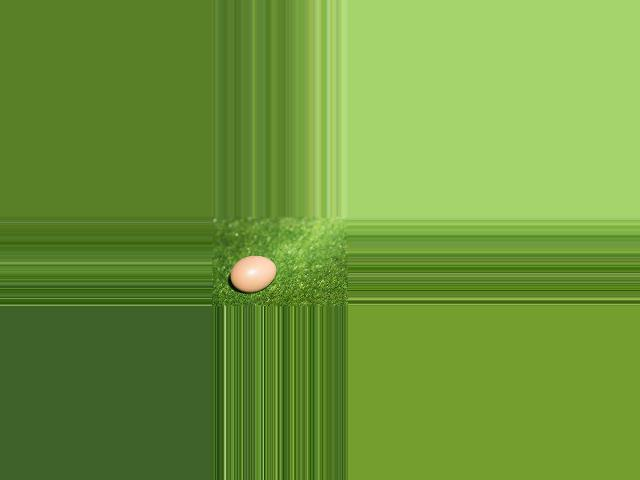egg: (230, 256, 277, 293)
